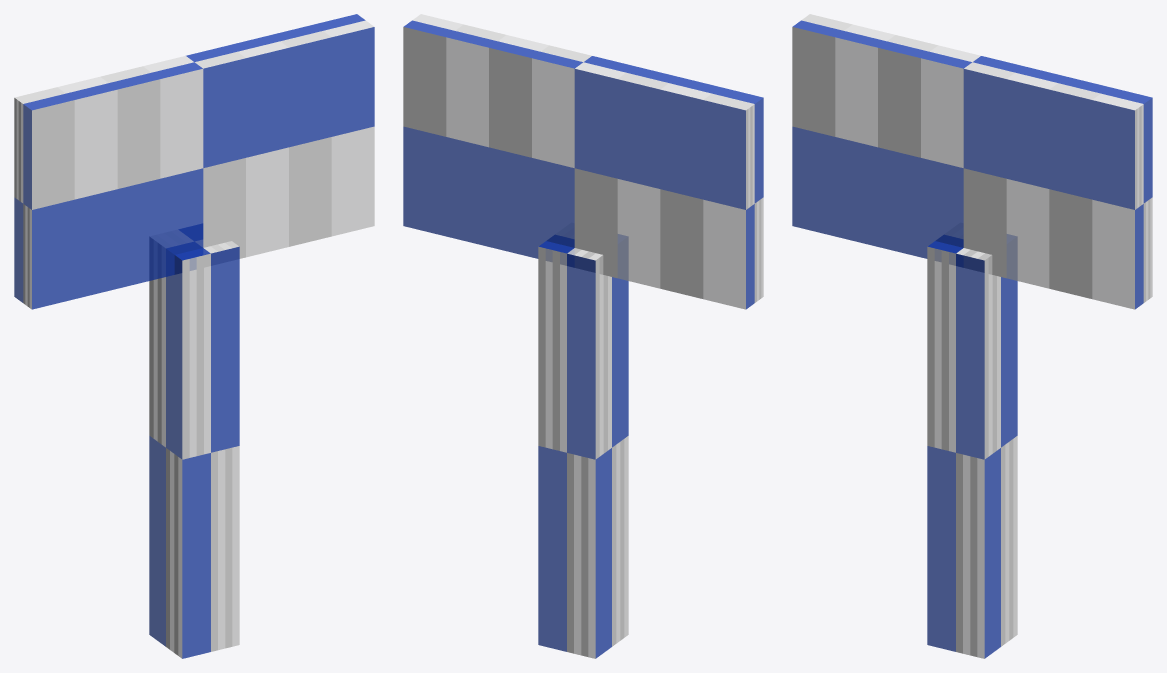
Rendered from r59_actor.glb.
3 renders of one model, left to right at view 1: azimuth 30°, elevation 25°; view 2: azimuth 150°, elevation 25°; view 3: azimuth 330°, elevation 25°, orthographic.
Parts seen in each view (by area): view 1: Board, Post; view 2: Board, Post; view 3: Board, Post.
Boxes of the visible parts, x1=… form: Board: x1=14, y1=14, x2=374, y2=309; Post: x1=149, y1=224, x2=239, y2=658; Board: x1=403, y1=14, x2=763, y2=309; Post: x1=538, y1=223, x2=628, y2=658; Board: x1=792, y1=14, x2=1152, y2=309; Post: x1=927, y1=223, x2=1017, y2=658.
Bounding box in the file's own units: 0.9 × 1.45 × 0.15.
Materials: 1 (1 with a texture image).
